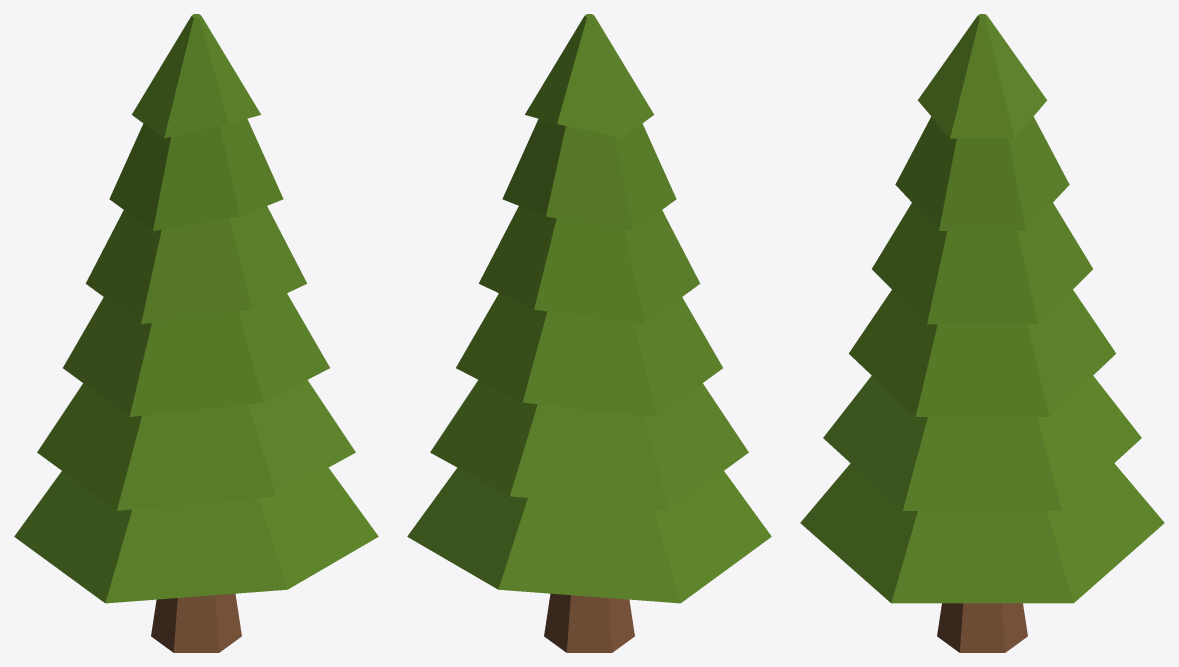
File: Natures_Fir Tree.fbx
3 renders of one model, left to right at view 1: azimuth 30°, elevation 25°; view 2: azimuth 150°, elevation 25°; view 3: azimuth 270°, elevation 25°, orthographic.
Visible parts, largest first — view 1: Natures_Fir Tree; view 2: Natures_Fir Tree; view 3: Natures_Fir Tree.
Part boxes in pixels (x1,y1,x2,y2): Natures_Fir Tree: [14, 14, 378, 652]; Natures_Fir Tree: [407, 14, 771, 652]; Natures_Fir Tree: [800, 14, 1164, 652].
Bounding box in the file's own units: 339 × 735 × 392.
1 material, 1 textured.
